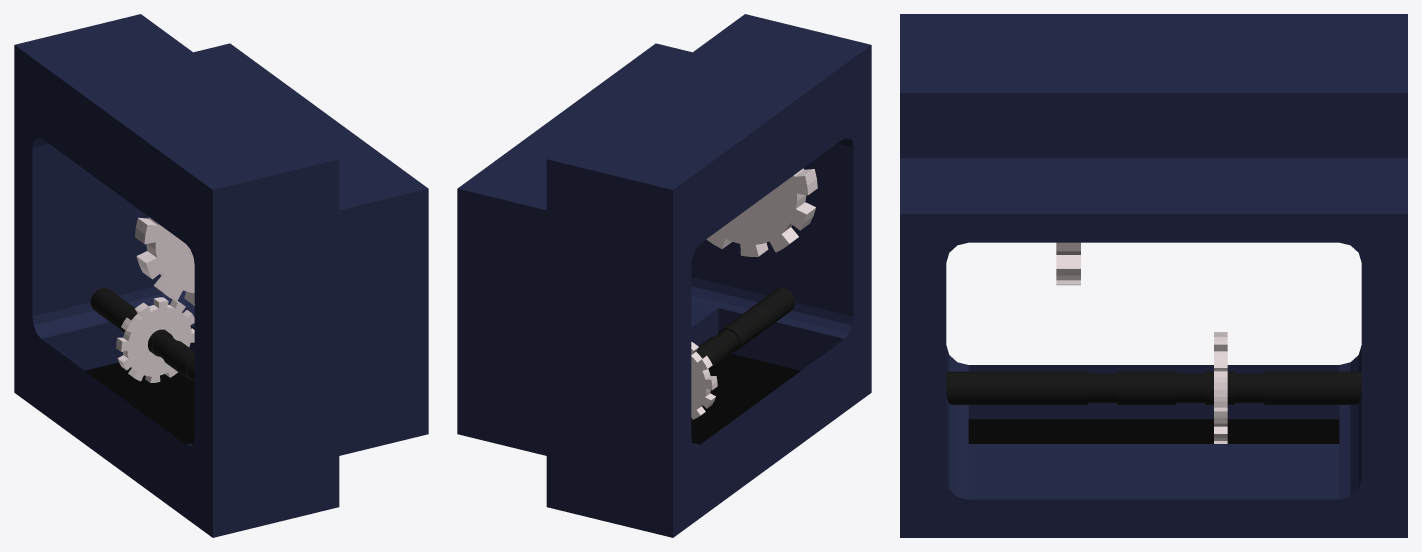
Rendered from CompartimentoPieza.fbx.
The picture shows the model from 3 angles, left to right: view 1: azimuth 30°, elevation 25°; view 2: azimuth 150°, elevation 25°; view 3: azimuth 270°, elevation 25°; orthographic projection. The views are drawn at different scales.
Parts seen in each view (by area): view 1: Cube, GearBig.008, GearBig.003; view 2: Cube, GearBig.003, GearBig.008; view 3: Cube, GearBig.008, GearBig.003.
Part boxes in pixels (x1,y1,x2,y2): Cube: [14, 14, 428, 537]; GearBig.008: [90, 287, 194, 382]; GearBig.003: [135, 217, 194, 305]; Cube: [457, 14, 871, 537]; GearBig.003: [706, 168, 817, 256]; GearBig.008: [691, 287, 795, 419]; Cube: [900, 14, 1407, 537]; GearBig.008: [946, 332, 1361, 443]; GearBig.003: [1056, 242, 1080, 285].
Bounding box in the file's own units: 204 × 304 × 315.
